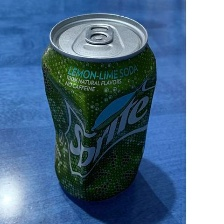can: (38, 10, 160, 203)
